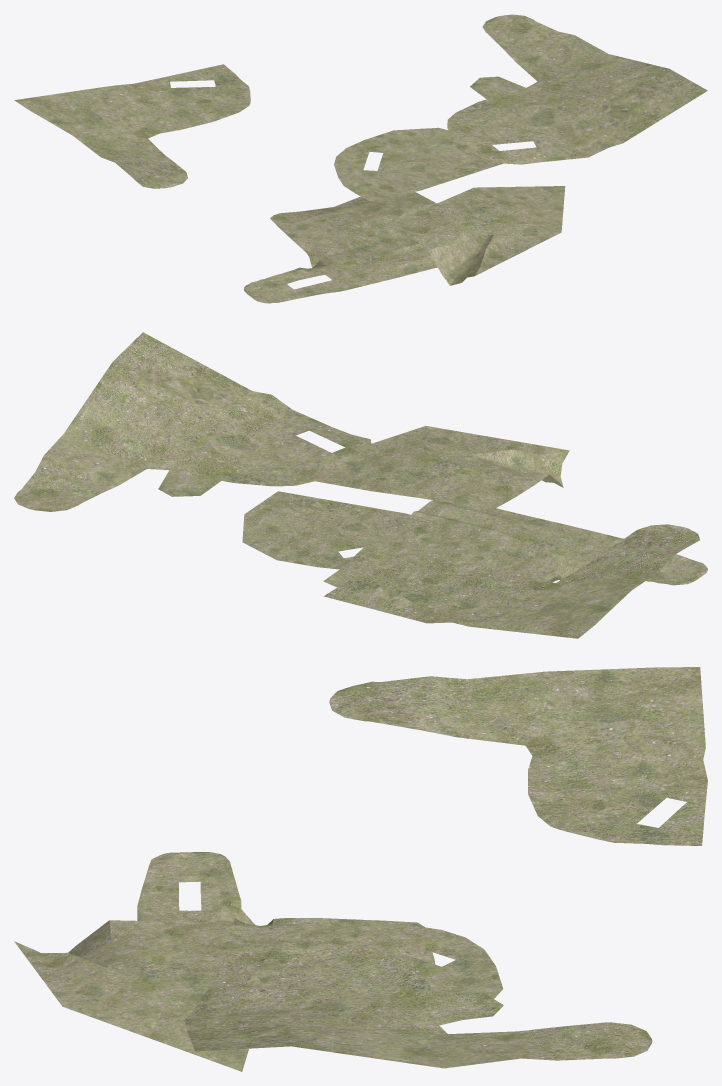
File: SM_Chateaux_01_05.fbx
3 renders of one model, top to bottom at view 1: azimuth 30°, elevation 25°; view 2: azimuth 150°, elevation 25°; view 3: azimuth 270°, elevation 25°, orthographic. The views are drawn at different scales.
Parts seen in each view (by area): view 1: SM_Chateaux_01_05; view 2: SM_Chateaux_01_05; view 3: SM_Chateaux_01_05.
Boxes of the visible parts, left/top/right/bottom form: SM_Chateaux_01_05: left=14, top=14, right=707, bottom=303; SM_Chateaux_01_05: left=14, top=332, right=707, bottom=638; SM_Chateaux_01_05: left=14, top=667, right=707, bottom=1071.
Size of the model in its own units: 9489 by 1788 by 7151.
